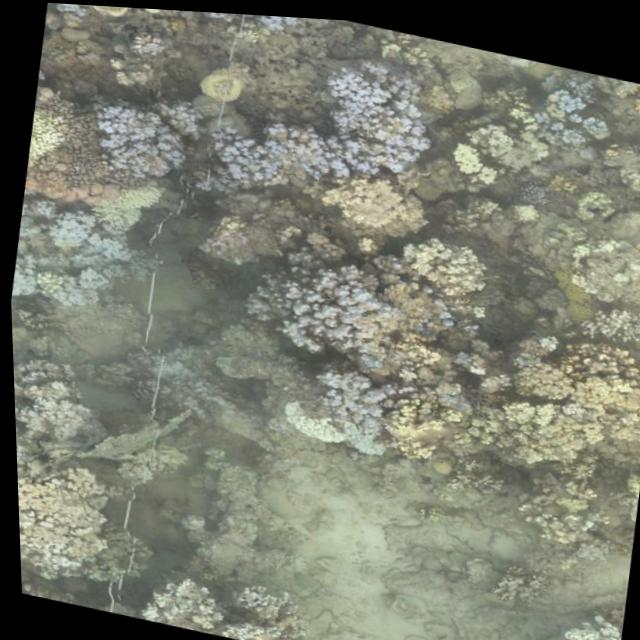Bleached Coral: (302, 53, 450, 191), (235, 227, 369, 358), (13, 444, 131, 584), (305, 354, 416, 473), (199, 105, 327, 199), (82, 85, 197, 187), (13, 188, 138, 269), (517, 53, 618, 150), (7, 236, 114, 323), (536, 596, 621, 640), (181, 8, 305, 34), (46, 2, 144, 23)
